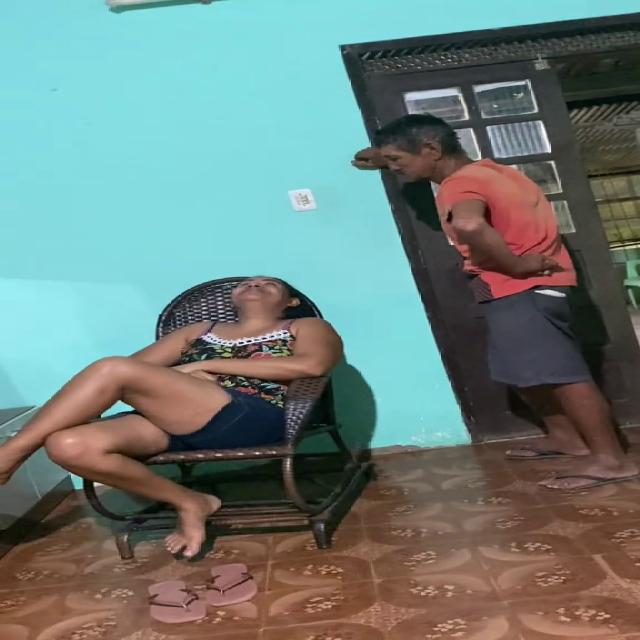em_pe: (356, 116, 623, 469)
sentado: (0, 277, 342, 559)
